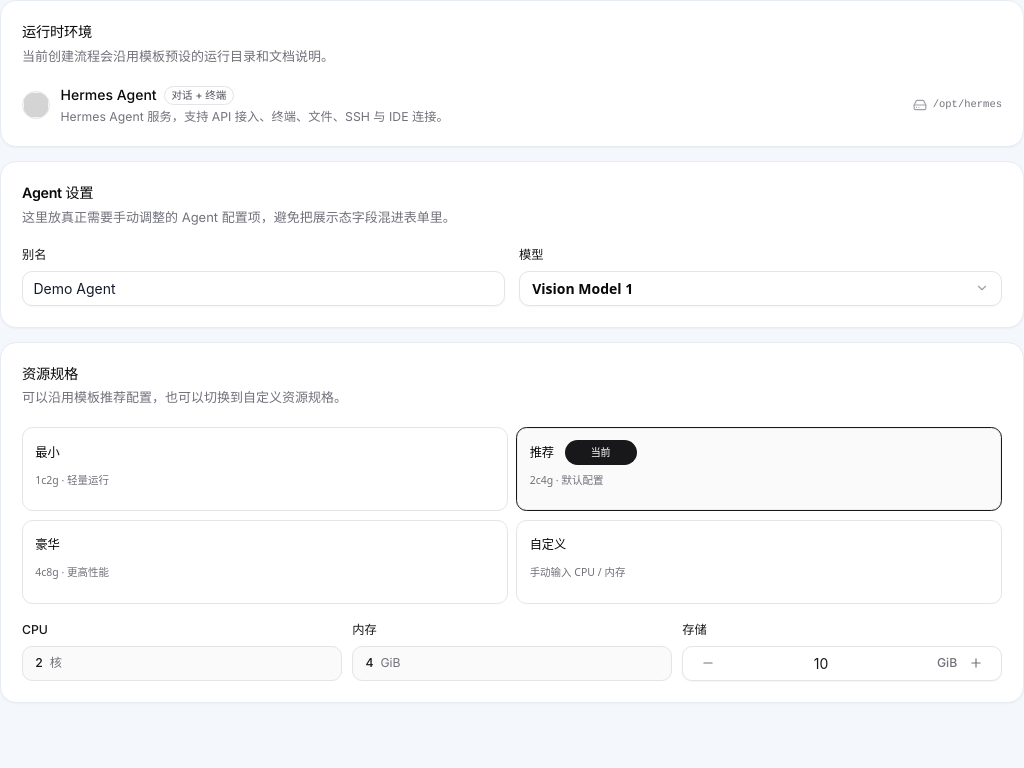
Scenario: AgentConfigForm › does not render model type navigation when there is only one model type
The width and height of the screenshot is (1024, 768).
Click the button "Vision Model 1" at (583, 288), box [519,271,1002,306]
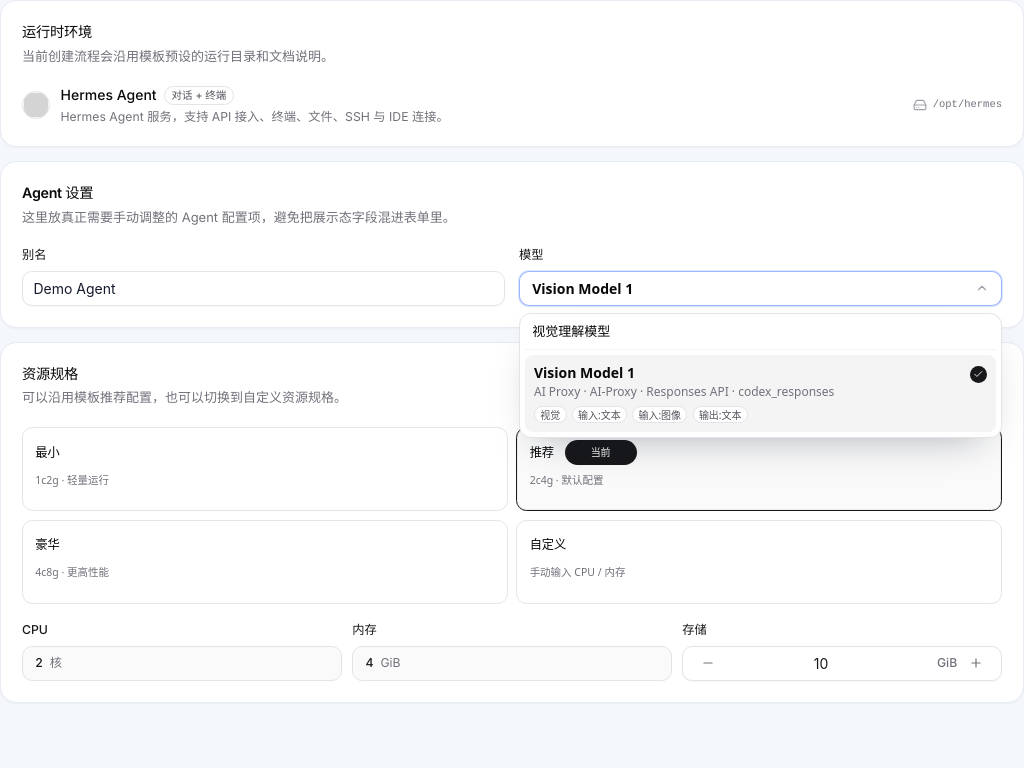
Now the text "视觉理解模型" is shown once, box [532,324,610,340]
